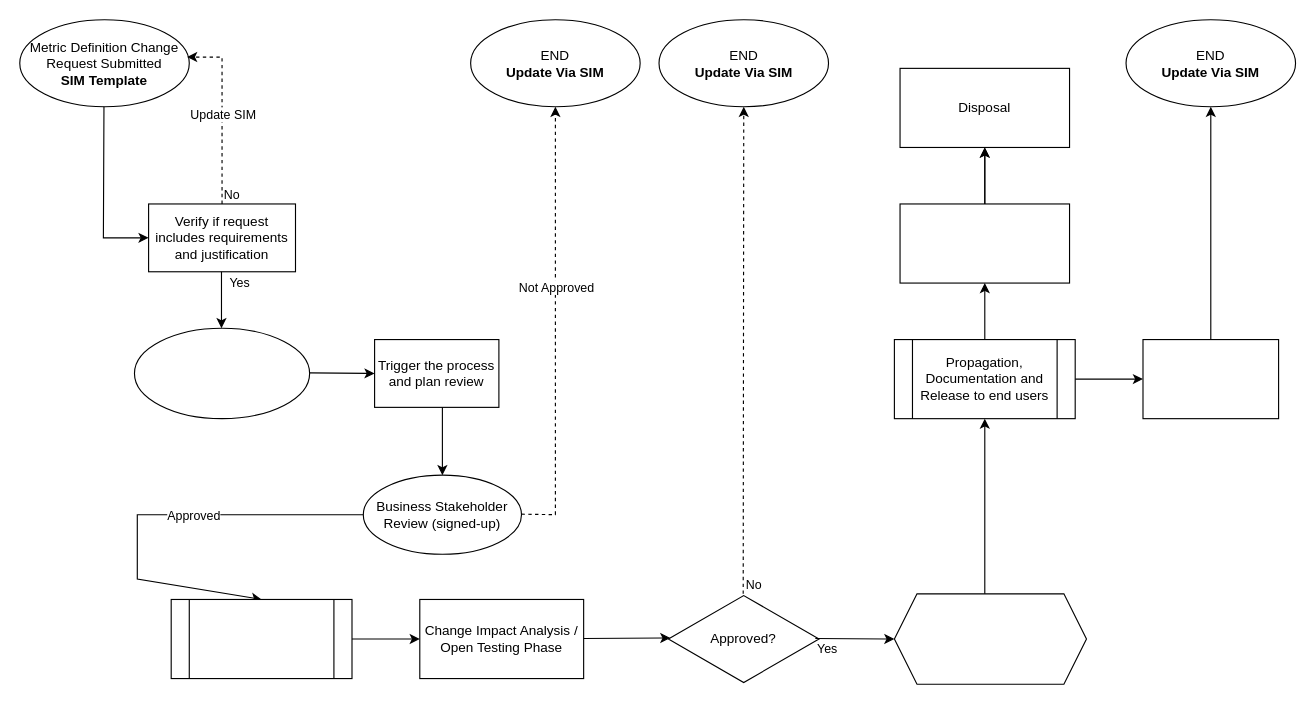
Some shapes in this 1315 by 704 pixel diagram are drawn without their labels. Each missing label, with the centre of its shape:
"Logic implementation and unification into data models Provide ETA" goes at [989,638].
"Move old metric in 60 backup retention period" goes at [984,243].
"Notify of successful implementation and release of new metric" goes at [1210,378].
"Provide visibility upon change request and open sign-up period" goes at [221,373].
"Review Meeting (definition, logic, attributes, test cases, data sources)" goes at [261,638].
